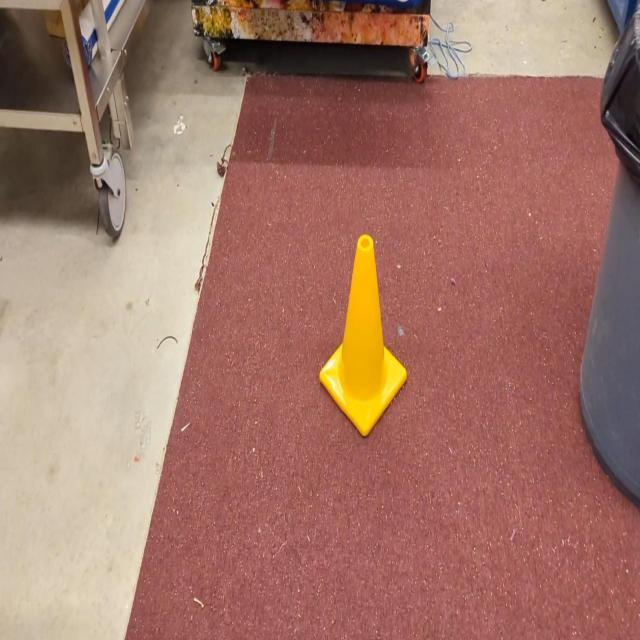frc_cone: (319, 235, 408, 436)
